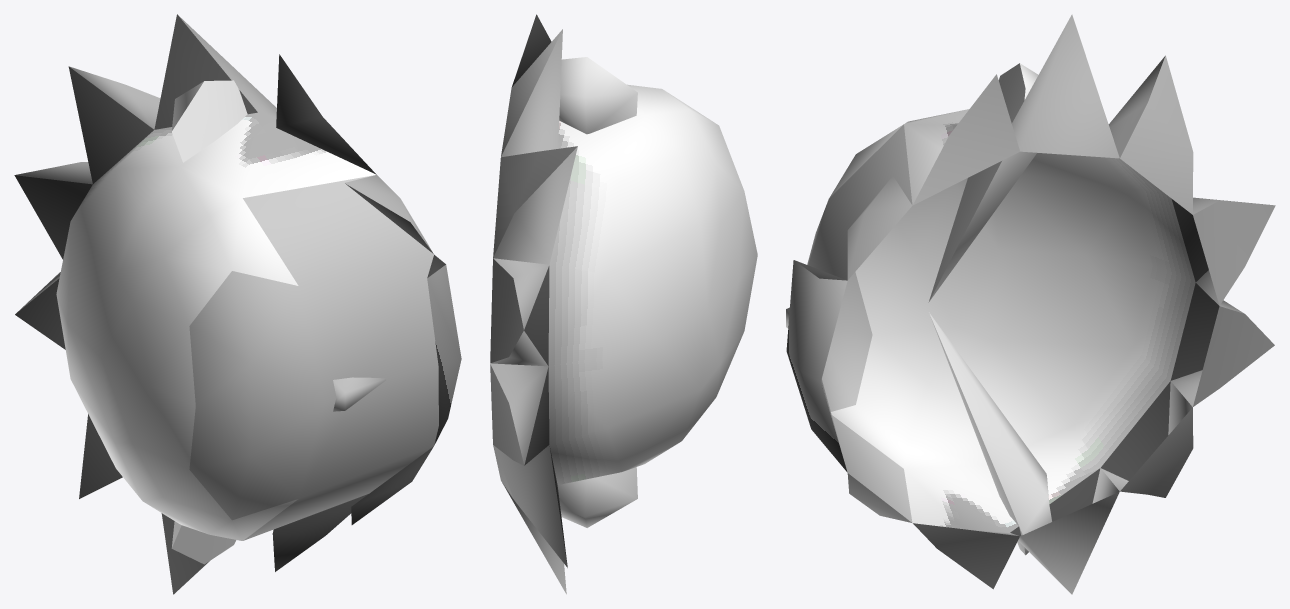
Rendered from boy12b.dae.
3 renders of one model, left to right at view 1: azimuth 30°, elevation 25°; view 2: azimuth 150°, elevation 25°; view 3: azimuth 270°, elevation 25°, orthographic. The views are drawn at different scales.
Parts seen in each view (by area): view 1: vsn_mesh_0_, vsn_mesh_1_, vsn_mesh_2_; view 2: vsn_mesh_0_; view 3: vsn_mesh_0_, vsn_mesh_1_, vsn_mesh_2_.
Part boxes in pixels (x1=…): vsn_mesh_0_: x1=14, y1=14, x2=461, y2=594; vsn_mesh_1_: x1=243, y1=175, x2=438, y2=540; vsn_mesh_2_: x1=189, y1=271, x2=324, y2=520; vsn_mesh_0_: x1=490, y1=14, x2=757, y2=594; vsn_mesh_0_: x1=786, y1=14, x2=1275, y2=594; vsn_mesh_1_: x1=786, y1=124, x2=912, y2=522; vsn_mesh_2_: x1=807, y1=201, x2=872, y2=411.
Size of the model in its own units: 15.5 by 32.04 by 24.4.
Materials: 3 (1 with a texture image).
